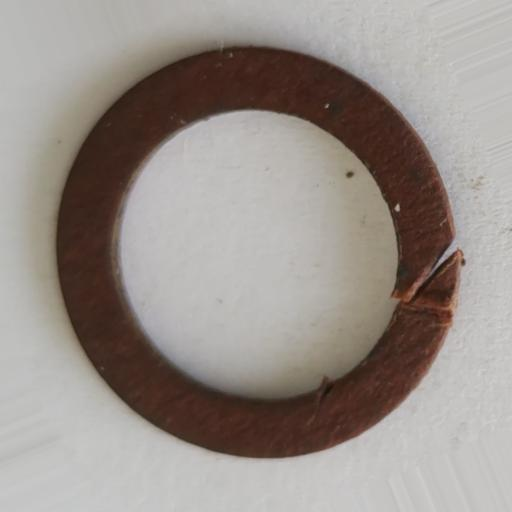defect: (392, 235, 465, 313)
